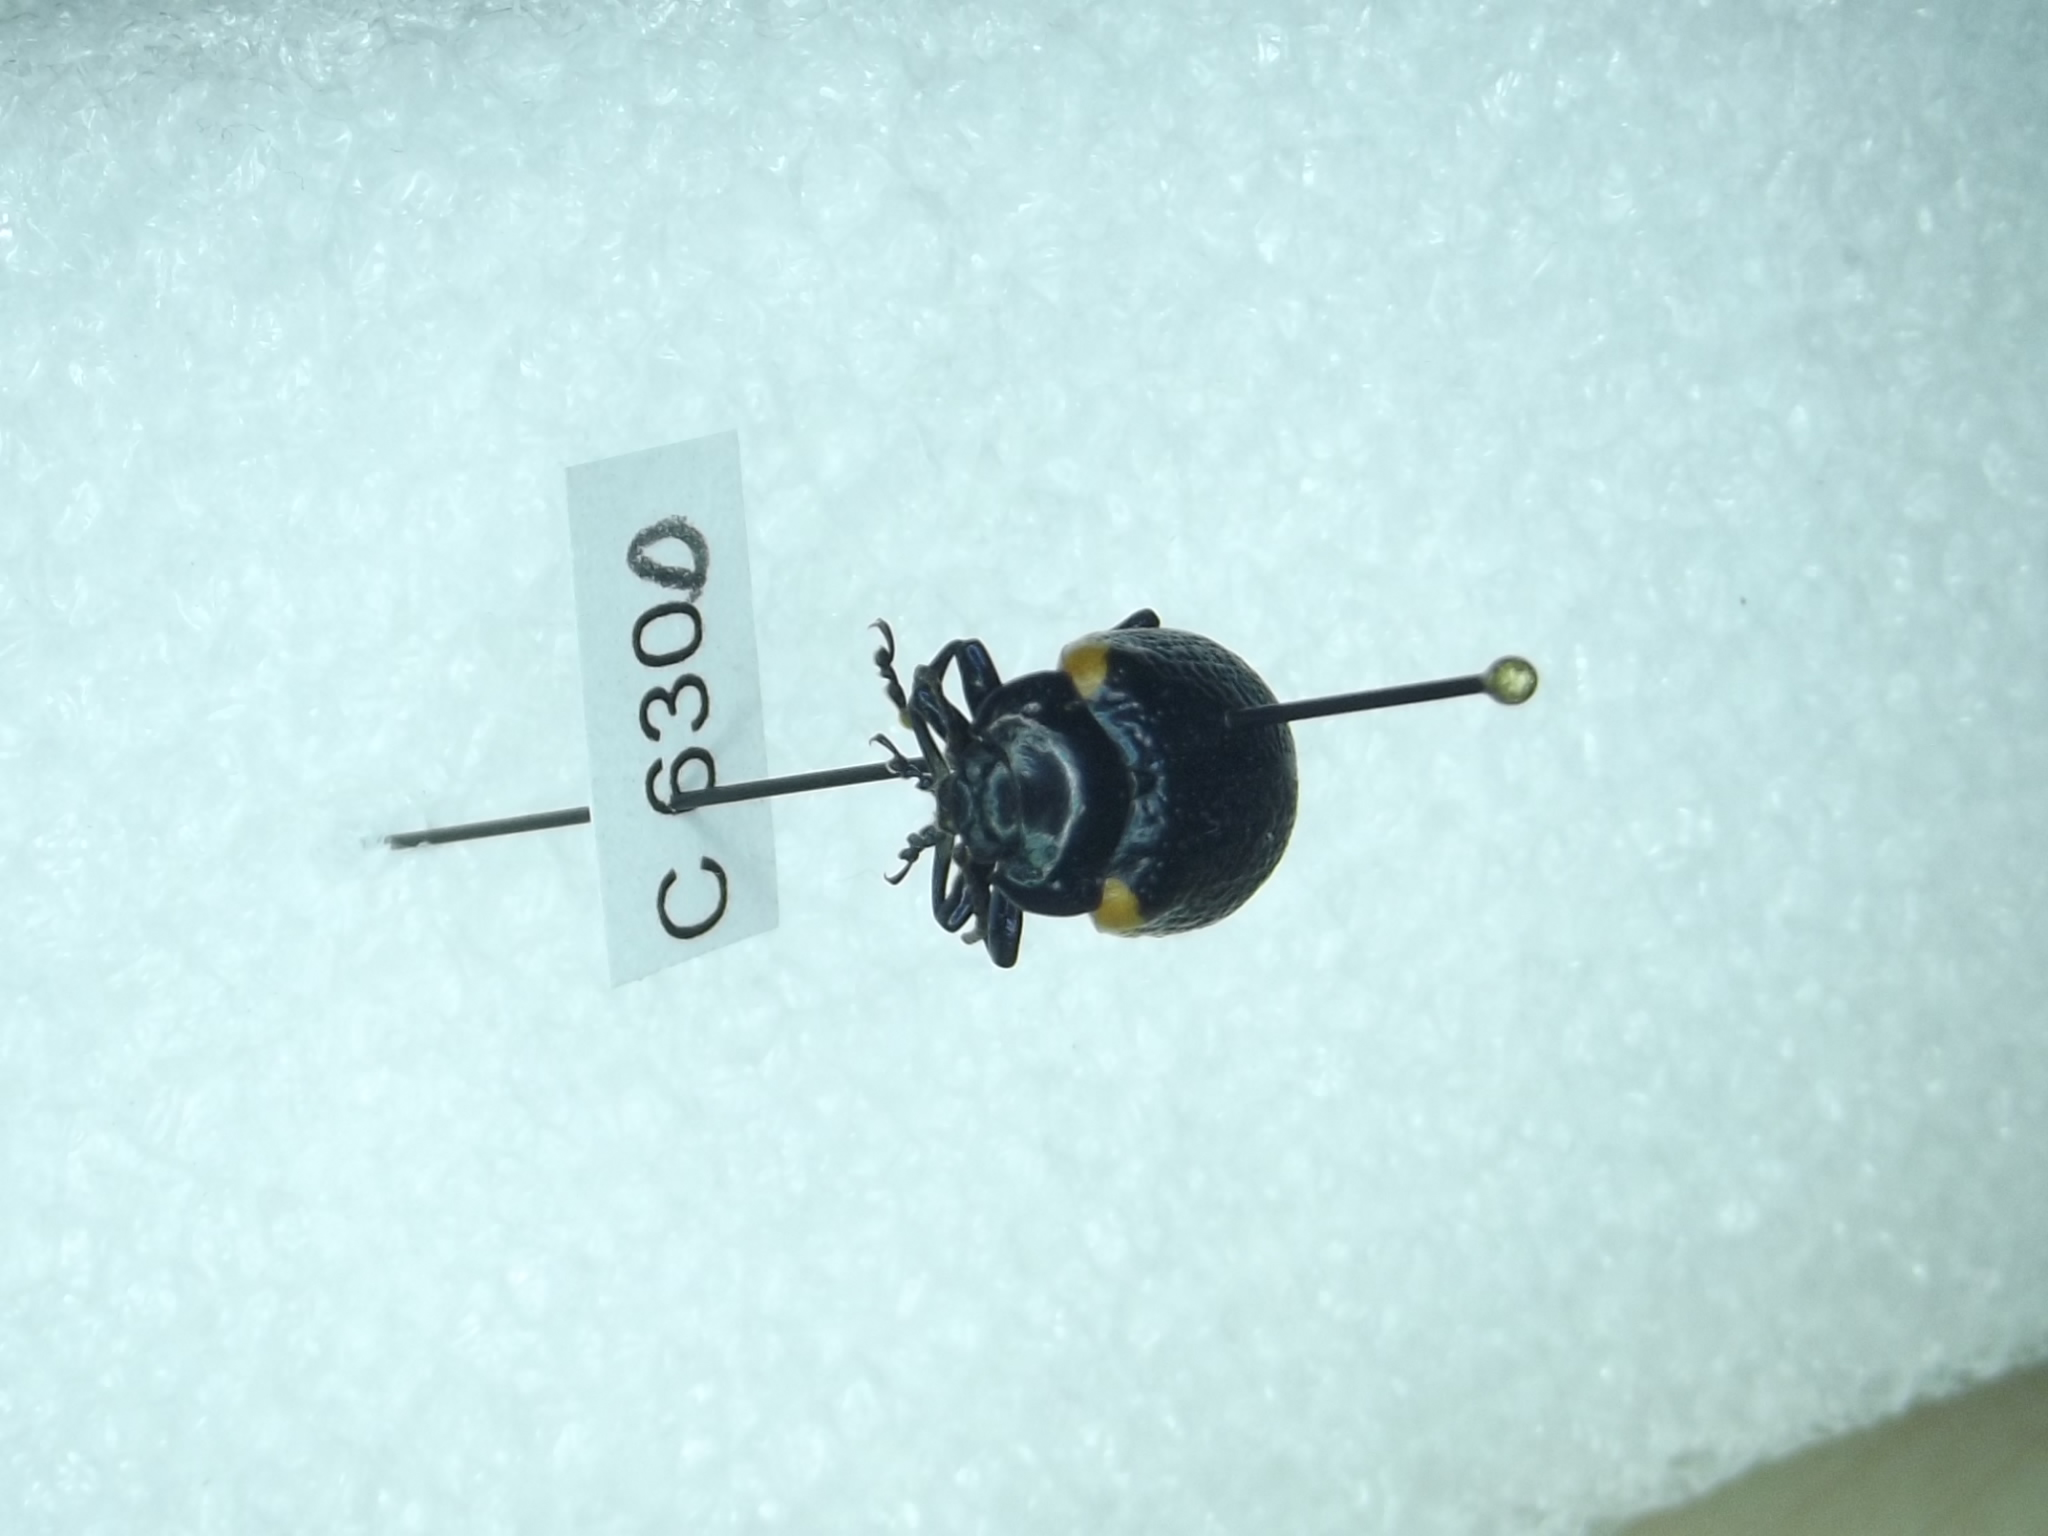Chrysolina_gypsophila: (850, 587, 1305, 966)
